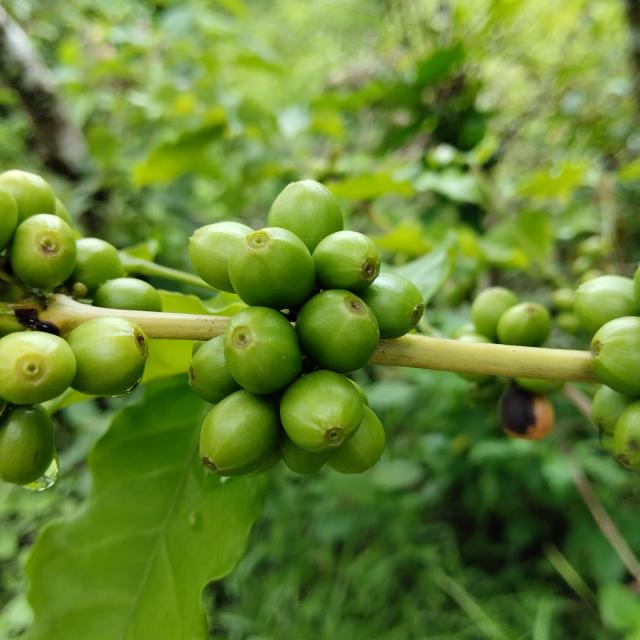green: (228, 227, 315, 311), (295, 290, 380, 374), (199, 390, 281, 477), (280, 370, 364, 452), (224, 306, 302, 394), (66, 316, 148, 397), (268, 179, 344, 253), (0, 331, 75, 405), (10, 214, 76, 288), (189, 221, 254, 293), (357, 273, 425, 339), (0, 405, 54, 485), (312, 230, 381, 292), (591, 316, 640, 397), (328, 405, 385, 474), (574, 275, 640, 334), (188, 335, 241, 405), (67, 237, 124, 297), (0, 169, 55, 224), (92, 278, 162, 312), (279, 434, 332, 475), (0, 184, 18, 252)
